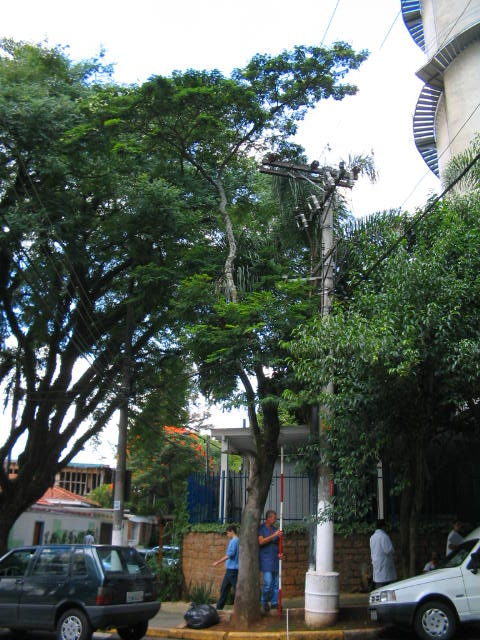crown: (289, 200, 478, 461), (63, 41, 369, 197)
stem: (227, 470, 273, 621), (392, 497, 428, 622)
stick: (275, 447, 290, 618)
tree: (61, 38, 371, 623), (1, 38, 234, 624), (286, 200, 480, 622)
